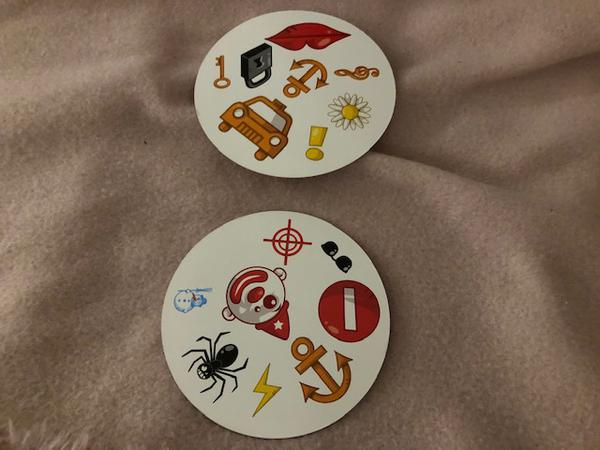ancre: (286, 333, 352, 405), (279, 58, 339, 99)
araignee: (179, 331, 249, 404)
bonhomme_neige: (169, 276, 215, 318)
bouche: (264, 21, 348, 53)
cadenas: (237, 41, 277, 91)
cible: (260, 219, 312, 266)
cle: (211, 52, 232, 91)
clown: (220, 262, 296, 340)
eclair: (249, 365, 285, 420)
fleur: (325, 89, 372, 134)
lunette: (320, 239, 355, 275)
note: (329, 61, 381, 83)
point_exclamation: (301, 127, 328, 164)
sens_interdit: (317, 277, 382, 343)
voiture: (216, 94, 293, 164)
